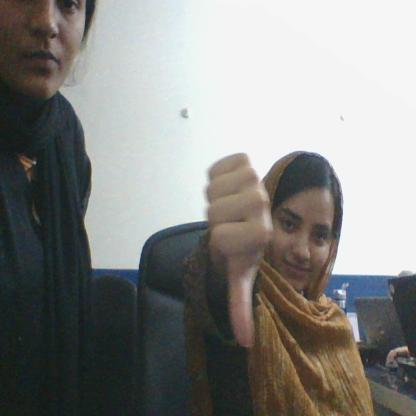thumbs-down: (200, 154, 270, 354)
